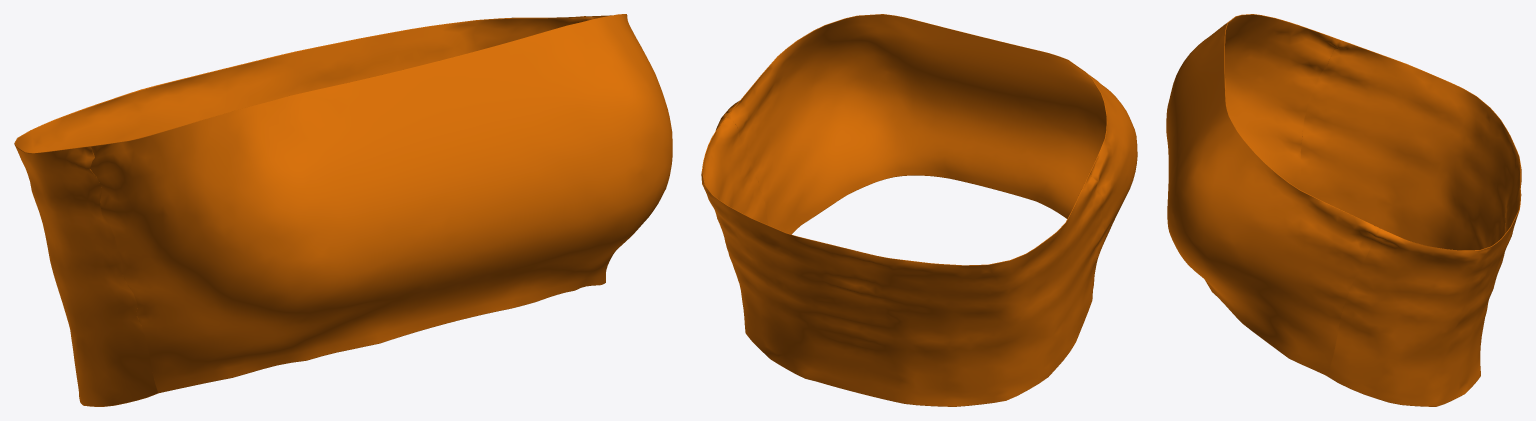
File: topfem5.glb
The picture shows the model from 3 angles, left to right: view 1: azimuth 30°, elevation 25°; view 2: azimuth 150°, elevation 25°; view 3: azimuth 270°, elevation 25°; orthographic projection. The views are drawn at different scales.
Parts seen in each view (by area): view 1: hash_860228B4.model; view 2: hash_860228B4.model; view 3: hash_860228B4.model.
Part boxes in pixels (x1,y1,x2,y2): hash_860228B4.model: (14,14,672,406); hash_860228B4.model: (701,14,1137,406); hash_860228B4.model: (1166,14,1521,406).
Size of the model in its own units: 0.3095 by 0.2238 by 0.2544.
